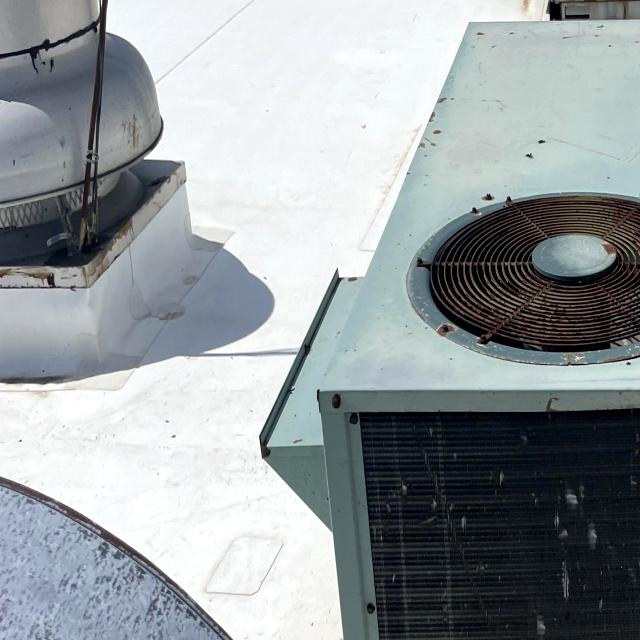RTU: (254, 9, 640, 640)
